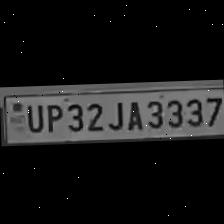2: (82, 98, 104, 131)
3: (63, 99, 83, 132), (143, 95, 163, 128), (182, 93, 202, 125), (164, 94, 182, 128)
7: (202, 92, 222, 125)
A: (122, 97, 144, 130)
J: (104, 96, 124, 130)
P: (43, 100, 62, 132)
U: (22, 100, 42, 132)
